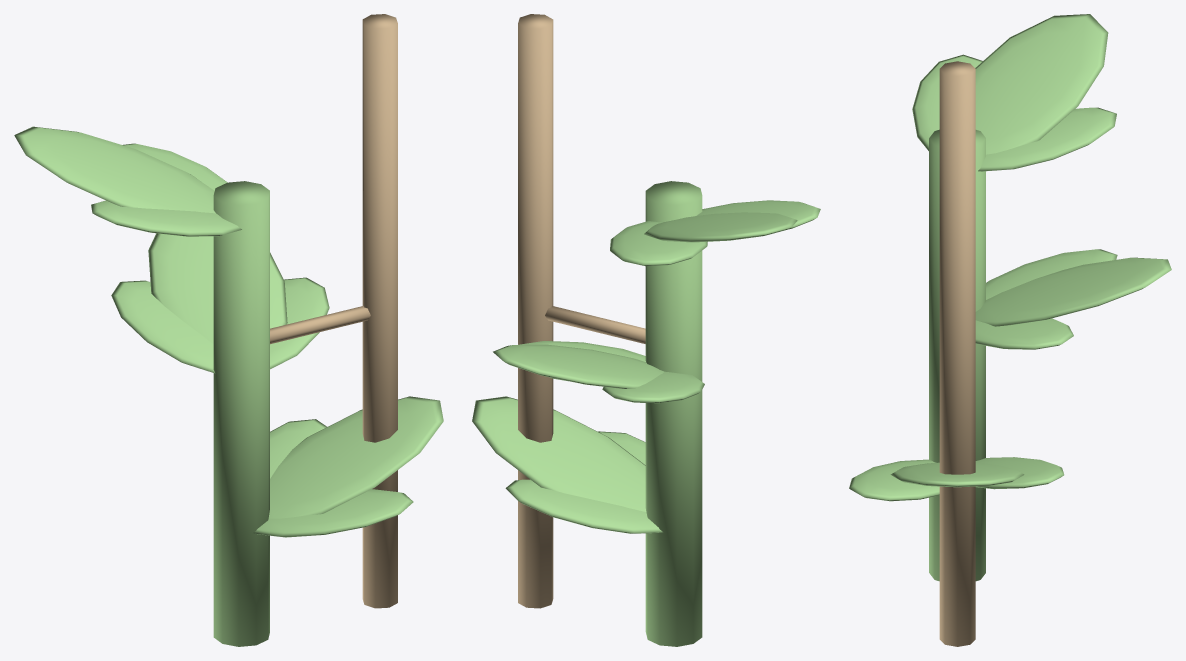
The model's file is VCrop_Tomato_3.fbx.
3 renders of one model, left to right at view 1: azimuth 30°, elevation 25°; view 2: azimuth 150°, elevation 25°; view 3: azimuth 270°, elevation 25°, orthographic.
Visible parts, largest first — view 1: VCrop_Tomato_3; view 2: VCrop_Tomato_3; view 3: VCrop_Tomato_3.
Boxes of the visible parts, x1=… form: VCrop_Tomato_3: x1=14, y1=14, x2=443, y2=646; VCrop_Tomato_3: x1=472, y1=14, x2=820, y2=646; VCrop_Tomato_3: x1=849, y1=14, x2=1171, y2=646.
Bounding box in the file's own units: 0.277 × 0.42 × 0.2154.
